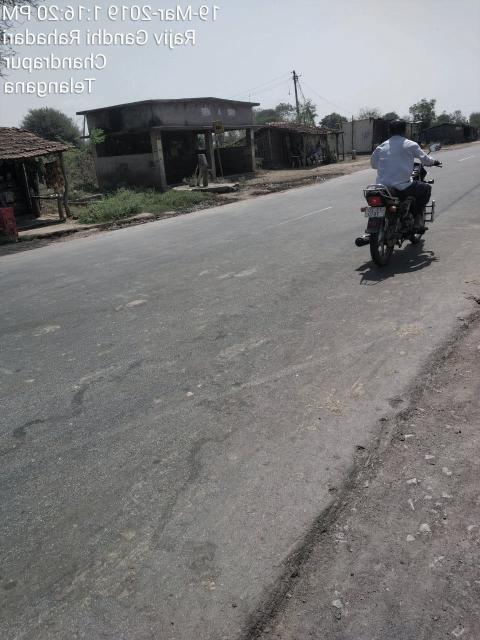motor: (357, 163, 443, 268)
non-helm: (389, 121, 408, 138)
